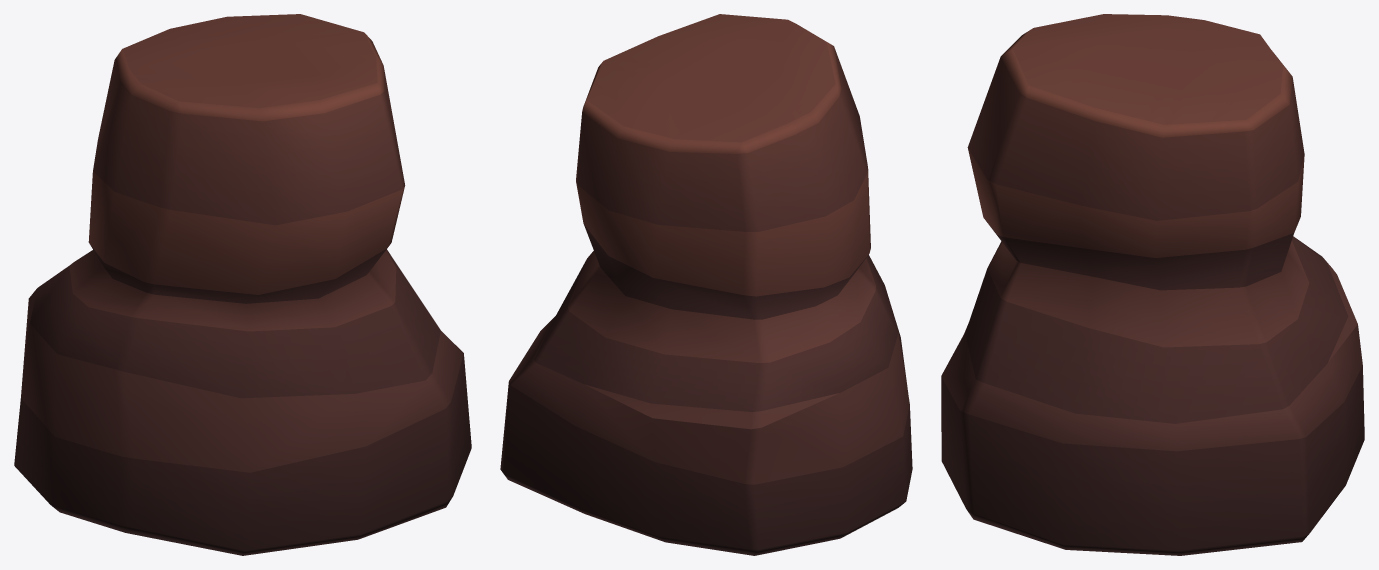
The model's file is rock_formation_08.fbx.
3 views of the same model, side by side, from view 1: azimuth 30°, elevation 25°; view 2: azimuth 150°, elevation 25°; view 3: azimuth 270°, elevation 25° (orthographic). The views are drawn at different scales.
Visible parts, largest first — view 1: rock_formation_08; view 2: rock_formation_08; view 3: rock_formation_08.
Part boxes in pixels (<box>): rock_formation_08: <box>14,14,471,555</box>; rock_formation_08: <box>500,14,912,555</box>; rock_formation_08: <box>941,14,1364,555</box>.
Bounding box in the file's own units: 546 × 565 × 518.
